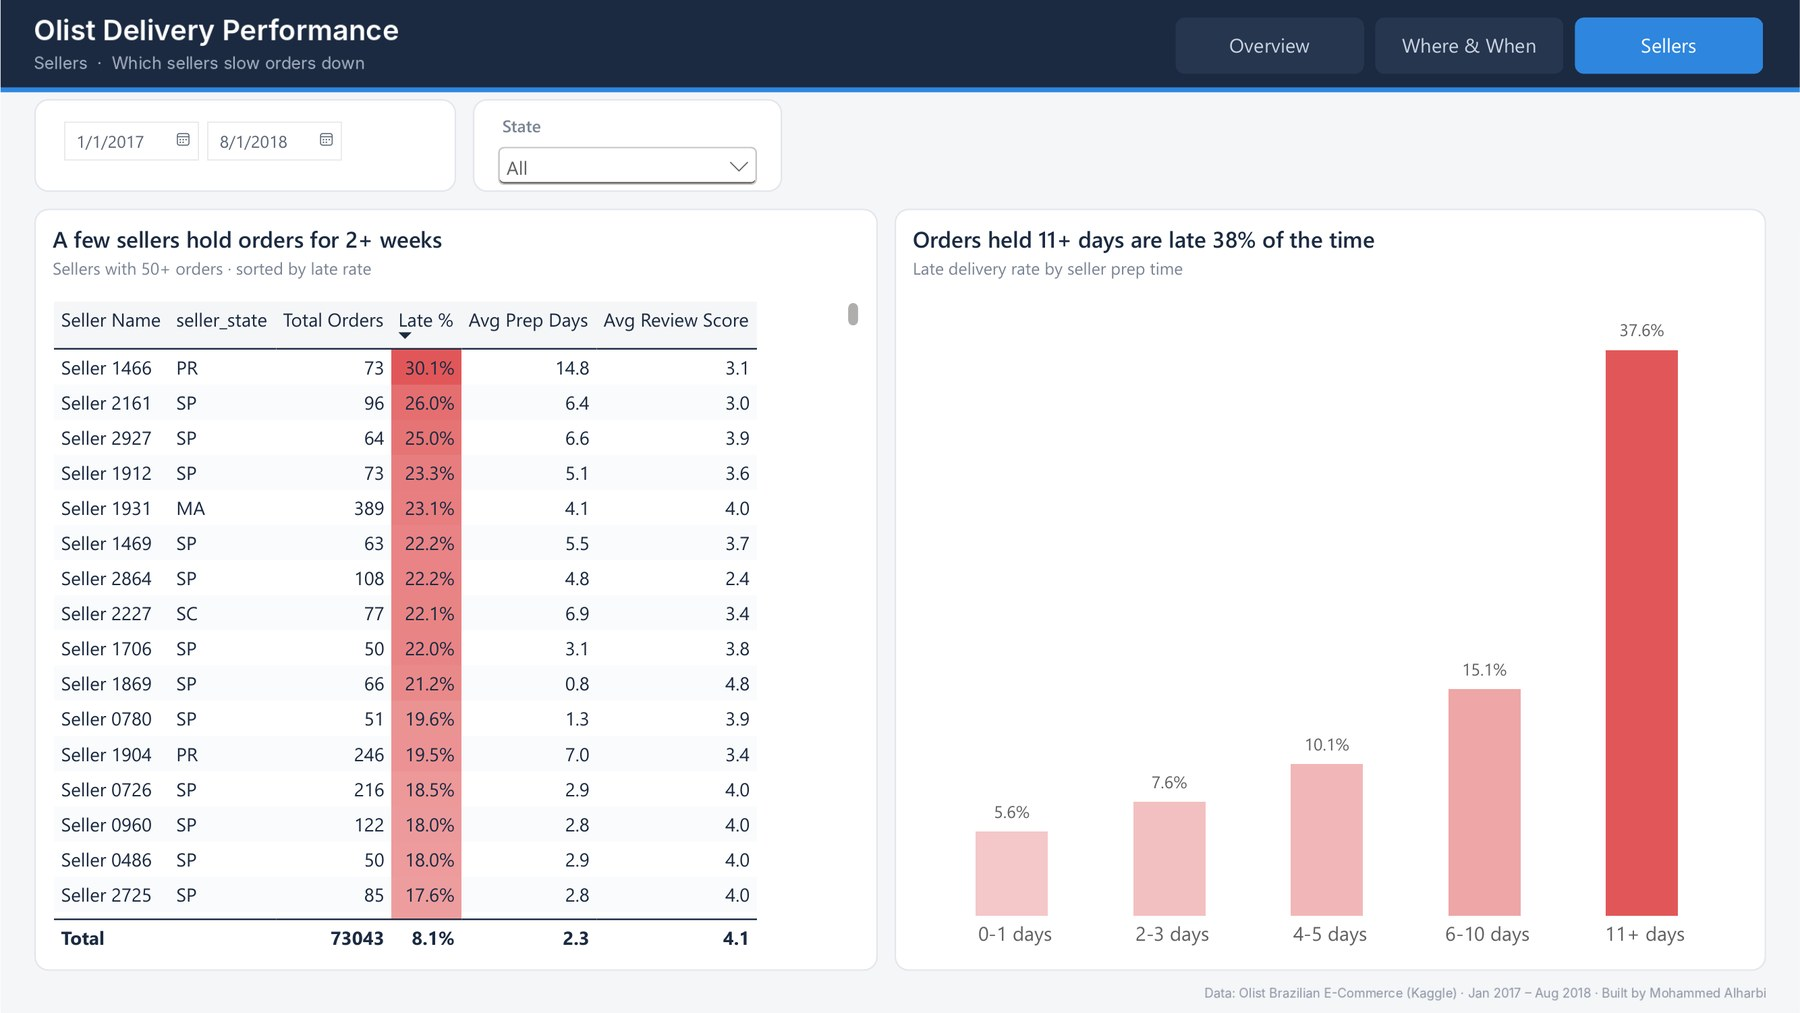

The page's visual inventory and layout, read from the dashboard file:
{"tool":"powerbi","page":{"name":"Sellers","canvas":[1280,720],"ordinal":3},"visuals":[{"type":"pageNavigator","box":[836,12,420,40],"z":0},{"type":"slicer","title":"Order period","fields":{"Values":["orders.Purchase Month"]},"box":[24,70,300,66],"z":1000},{"type":"slicer","fields":{"Values":["customers.customer_state"]},"box":[335.8,70,220,66],"z":2000},{"type":"tableEx","title":"A few sellers hold orders for 2+ weeks","fields":{"Values":["sellers.Seller Name","sellers.seller_state","orders.Total Orders","orders.Late %","orders.Avg Prep Days","orders.Avg Review Score"]},"box":[24,148,600,542],"z":3000},{"type":"clusteredColumnChart","title":"Orders held 11+ days are late 38% of the time","fields":{"Category":["orders.Prep Bucket"],"Y":["orders.Late %"]},"box":[636,148,620,542],"z":4000}]}

Visuals, with their boxes in screenshot pixels (x1, y1, x2, y2), scaled from the page's 1280x720 canvas onto the 1800x1013 screenshot:
pageNavigator: box=[1176, 17, 1766, 73]
"Order period" slicer: box=[34, 98, 456, 191]
slicer - customers.customer_state: box=[472, 98, 782, 191]
"A few sellers hold orders for 2+ weeks" tableEx: box=[34, 208, 878, 971]
"Orders held 11+ days are late 38% of the time" clusteredColumnChart: box=[894, 208, 1766, 971]
